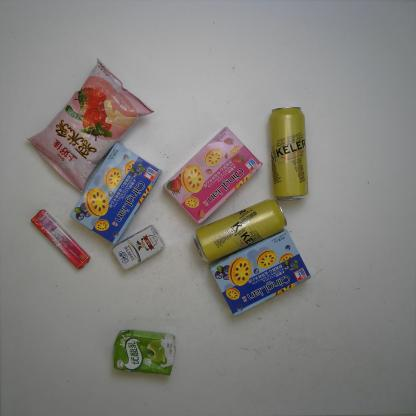Alcohol: (191, 198, 292, 263), (268, 105, 310, 203)
Candy: (29, 206, 92, 270)
Dessert: (161, 123, 264, 225), (68, 141, 163, 246), (208, 226, 313, 318)
Milk: (112, 326, 178, 378), (111, 224, 166, 272)
Puffed Food: (24, 55, 156, 194)
